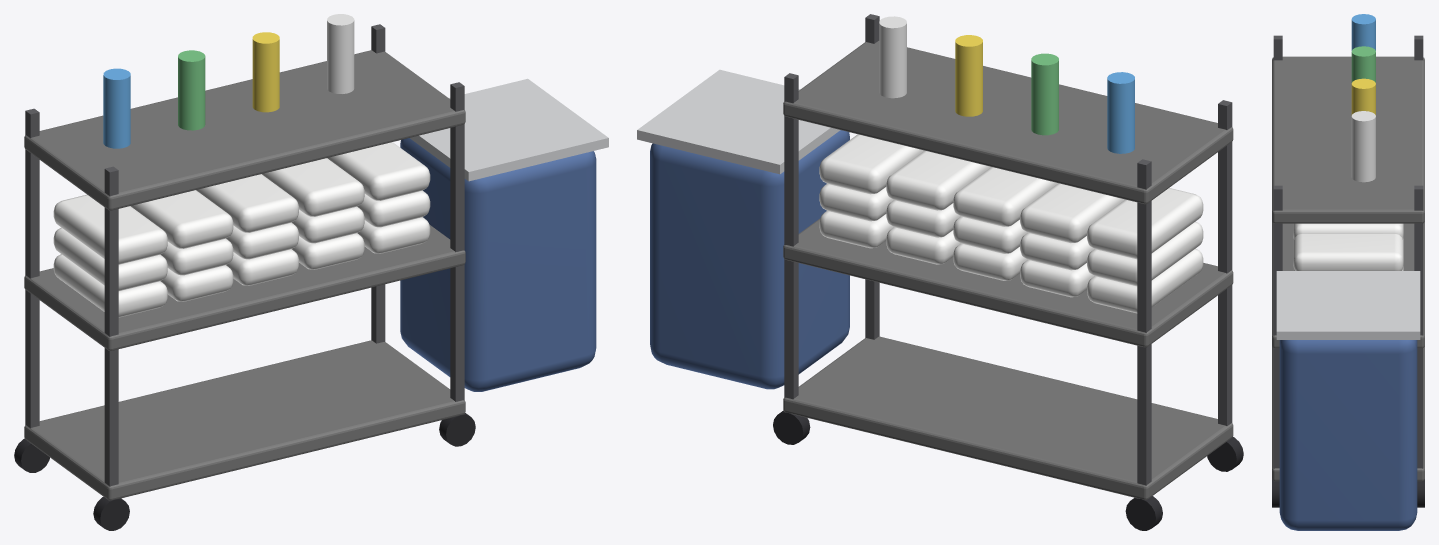
File: hotel-housekeeping-cart.glb
3 views of the same model, side by side, from view 1: azimuth 30°, elevation 25°; view 2: azimuth 150°, elevation 25°; view 3: azimuth 270°, elevation 25° (orthographic). The views are drawn at different scales.
Visible parts, largest first — view 1: linen_bag, shelf, shelf.002, shelf.001, bag_hoop, post, post.002, post.001, towel02, towel12, towel42, towel22 (+19 smaller); view 2: shelf, linen_bag, shelf.002, shelf.001, bag_hoop, post.001, towel02, post.003, post, towel32, towel42, towel22 (+19 smaller); view 3: linen_bag, shelf.002, bag_hoop, towel42, post.002, post.003, shelf.001, bottle3, towel32, bottle2, bottle0, bottle1 (+5 smaller).
Part boxes in pixels (x1=…): linen_bag: x1=400, y1=138, x2=596, y2=391; shelf: x1=24, y1=340, x2=465, y2=500; shelf.002: x1=24, y1=50, x2=465, y2=210; shelf.001: x1=24, y1=224, x2=465, y2=350; bag_hoop: x1=410, y1=78, x2=608, y2=181; post: x1=104, y1=166, x2=118, y2=486; post.002: x1=450, y1=82, x2=464, y2=401; post.001: x1=25, y1=108, x2=39, y2=428; towel02: x1=53, y1=194, x2=167, y2=264; towel12: x1=130, y1=190, x2=233, y2=248; towel42: x1=327, y1=142, x2=430, y2=200; towel22: x1=196, y1=174, x2=298, y2=232; shelf: x1=783, y1=336, x2=1233, y2=499; linen_bag: x1=650, y1=130, x2=849, y2=389; shelf.002: x1=783, y1=41, x2=1233, y2=204; shelf.001: x1=783, y1=218, x2=1233, y2=347; bag_hoop: x1=637, y1=69, x2=840, y2=174; post.001: x1=1137, y1=159, x2=1151, y2=500; towel02: x1=1087, y1=188, x2=1203, y2=259; post.003: x1=784, y1=73, x2=798, y2=399; post: x1=1218, y1=100, x2=1232, y2=425; towel32: x1=886, y1=150, x2=990, y2=210; towel42: x1=819, y1=134, x2=924, y2=194; towel22: x1=953, y1=167, x2=1057, y2=226; linen_bag: x1=1279, y1=340, x2=1417, y2=530; shelf.002: x1=1272, y1=56, x2=1424, y2=223; bag_hoop: x1=1276, y1=271, x2=1420, y2=339; towel42: x1=1293, y1=233, x2=1403, y2=270; post.002: x1=1273, y1=185, x2=1282, y2=468; post.003: x1=1414, y1=185, x2=1423, y2=468; shelf.001: x1=1272, y1=221, x2=1424, y2=348; bottle3: x1=1351, y1=111, x2=1375, y2=182; towel32: x1=1293, y1=223, x2=1403, y2=239; bottle2: x1=1351, y1=78, x2=1375, y2=115; bottle0: x1=1351, y1=14, x2=1375, y2=50; bottle1: x1=1351, y1=46, x2=1375, y2=82.
Size of the model in its own units: 1.72 by 1.3 by 0.5.
